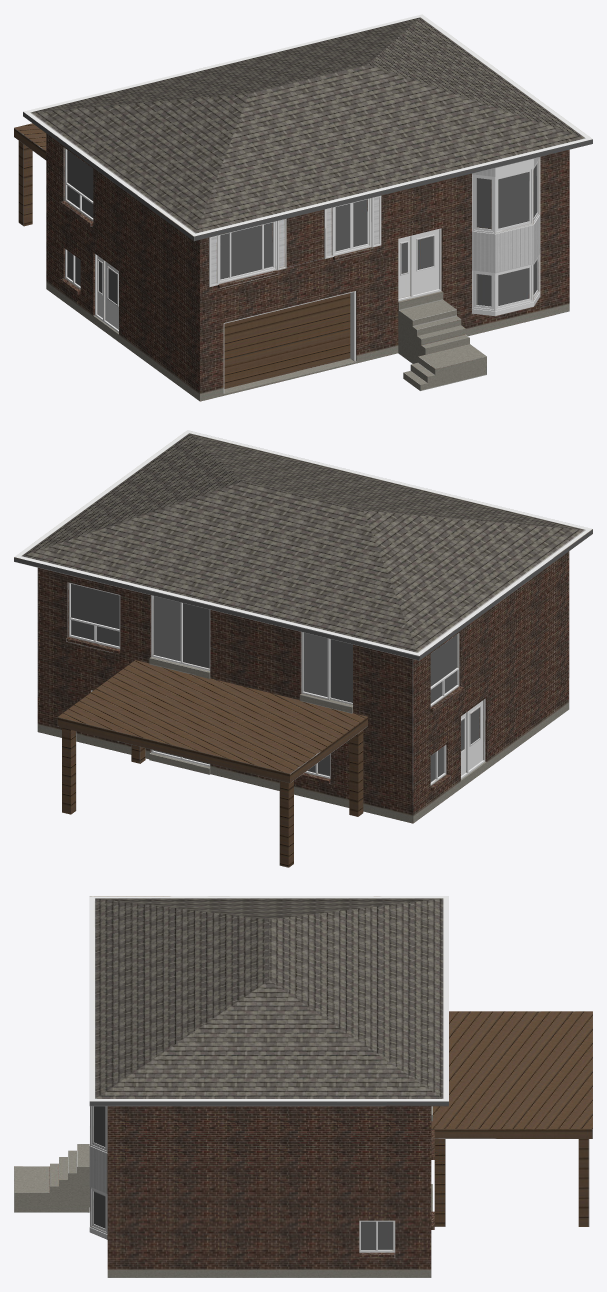
The model's file is Residential House 10.fbx.
3 renders of one model, top to bottom at view 1: azimuth 30°, elevation 25°; view 2: azimuth 150°, elevation 25°; view 3: azimuth 270°, elevation 25°, orthographic. The views are drawn at different scales.
Visible parts, largest first — view 1: Residential_House_10_LOD0; view 2: Residential_House_10_LOD0; view 3: Residential_House_10_LOD0.
Part boxes in pixels (left/top/right/bottom): Residential_House_10_LOD0: left=14, top=14, right=592, bottom=401; Residential_House_10_LOD0: left=14, top=430, right=592, bottom=867; Residential_House_10_LOD0: left=14, top=896, right=592, bottom=1277.
Size of what is drawn, in the model's own units: 1350 by 715 by 1610.
1 material, 1 textured.
